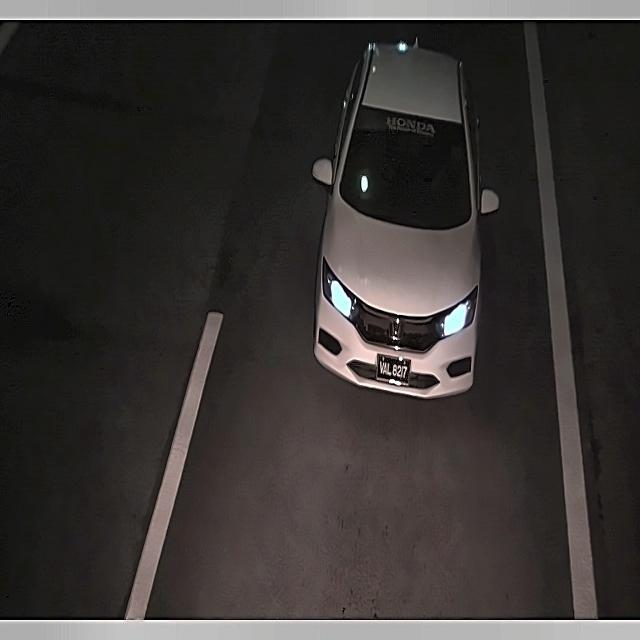car: (370, 348, 418, 391)
